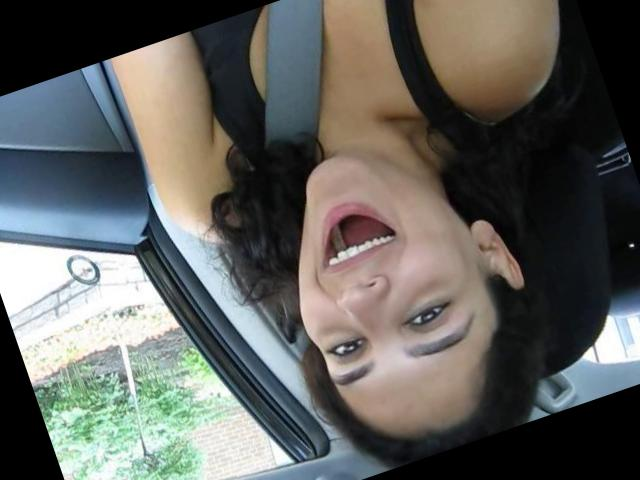eye_open: (402, 293, 462, 339), (321, 326, 376, 370)
face: (249, 122, 502, 414)
mouth_open: (293, 181, 412, 284)
